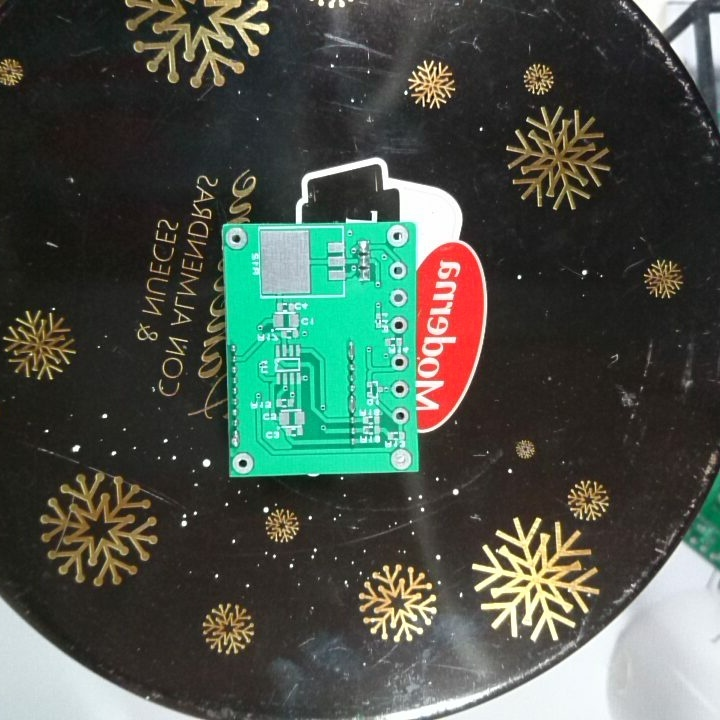F: (222, 225, 249, 252), (231, 450, 257, 476), (385, 224, 410, 248), (388, 446, 414, 469), (386, 259, 409, 281), (387, 289, 411, 310), (390, 351, 412, 373), (388, 315, 409, 335), (391, 406, 411, 426), (391, 377, 410, 398)
P: (344, 338, 359, 363), (345, 393, 359, 414), (229, 429, 242, 449)
